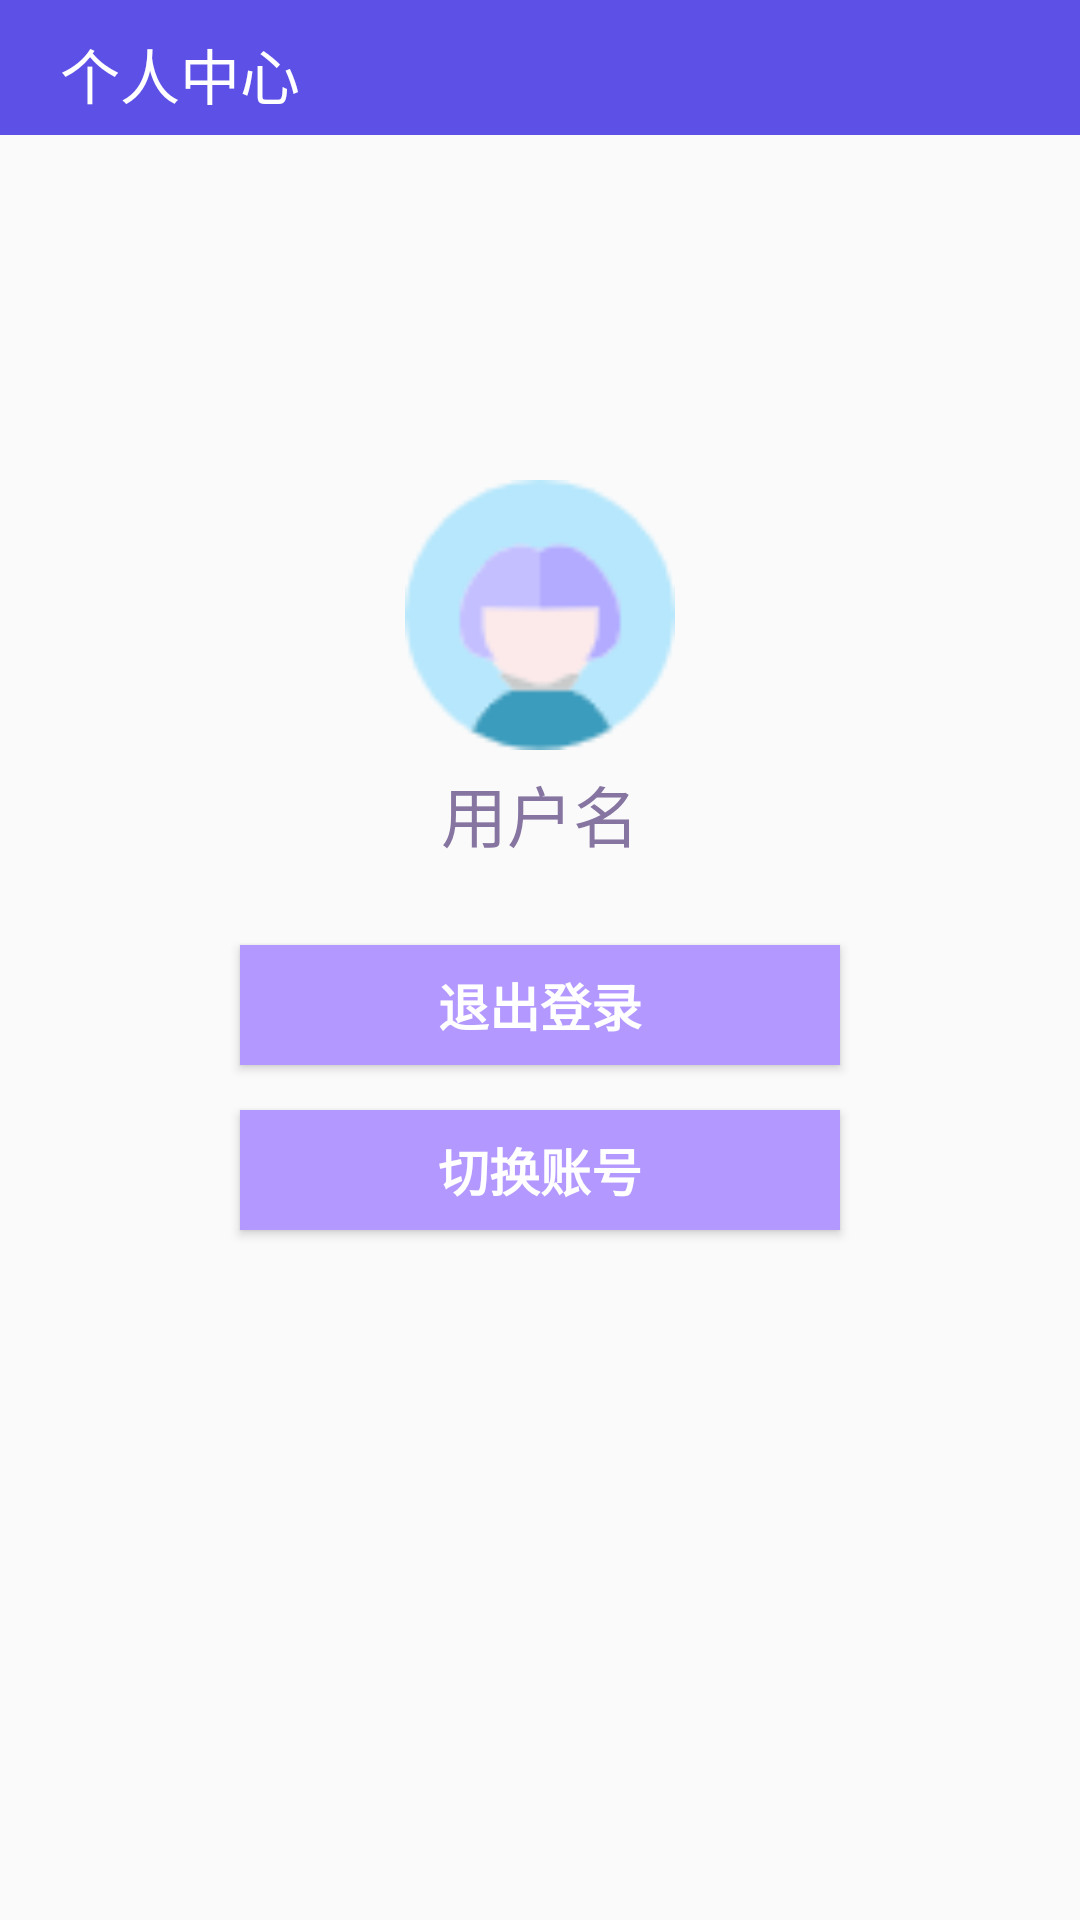

Icons on this 1080 × 1920 Android screen, each with the point to tap as (x=x, y=y):
head: (x=540, y=615)
